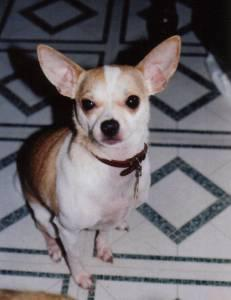dog-chihuahua: (36, 33, 179, 146)
